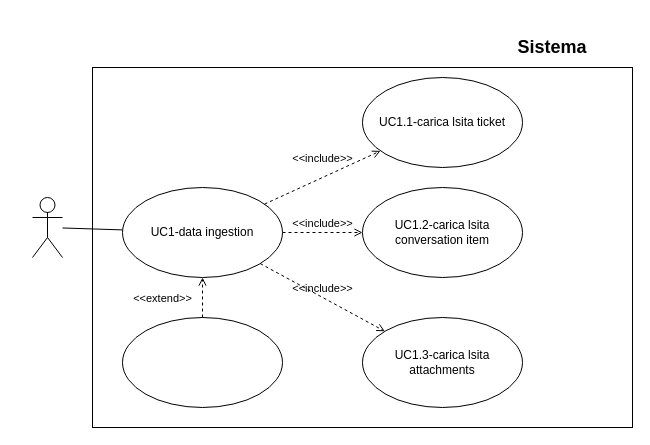
Image size: 650x445. Some labels were removed from this diagram. Each missing label, with the box of its shape:
Companion: (32, 196, 62, 258)
UC2-errore nel caricamento dei file: (122, 316, 282, 408)
